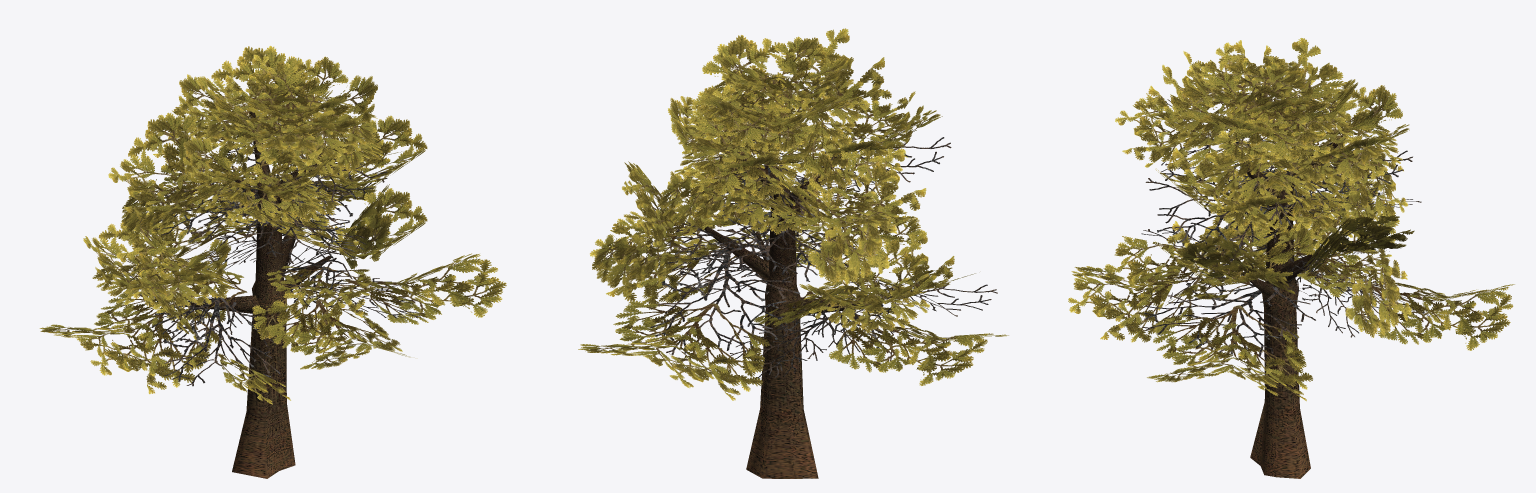
Rendered from flora_tree_oak_hungarian_autumn_v4.glb.
The picture shows the model from 3 angles, left to right: view 1: azimuth 30°, elevation 25°; view 2: azimuth 150°, elevation 25°; view 3: azimuth 270°, elevation 25°; orthographic projection.
Visible parts, largest first — view 1: flora_tree_oak_hungarian_autumn_v4_part0, flora_tree_oak_hungarian_autumn_v4_part1; view 2: flora_tree_oak_hungarian_autumn_v4_part0, flora_tree_oak_hungarian_autumn_v4_part1; view 3: flora_tree_oak_hungarian_autumn_v4_part0, flora_tree_oak_hungarian_autumn_v4_part1.
Boxes of the visible parts, x1=… form: flora_tree_oak_hungarian_autumn_v4_part0: x1=39, y1=45, x2=506, y2=478; flora_tree_oak_hungarian_autumn_v4_part1: x1=120, y1=120, x2=420, y2=386; flora_tree_oak_hungarian_autumn_v4_part0: x1=578, y1=28, x2=1008, y2=478; flora_tree_oak_hungarian_autumn_v4_part1: x1=650, y1=106, x2=997, y2=378; flora_tree_oak_hungarian_autumn_v4_part0: x1=1068, y1=38, x2=1514, y2=478; flora_tree_oak_hungarian_autumn_v4_part1: x1=1141, y1=99, x2=1438, y2=358.
Size of the model in its own units: 21.34 by 19.61 by 19.89.
Materials: 2 (2 with a texture image).
